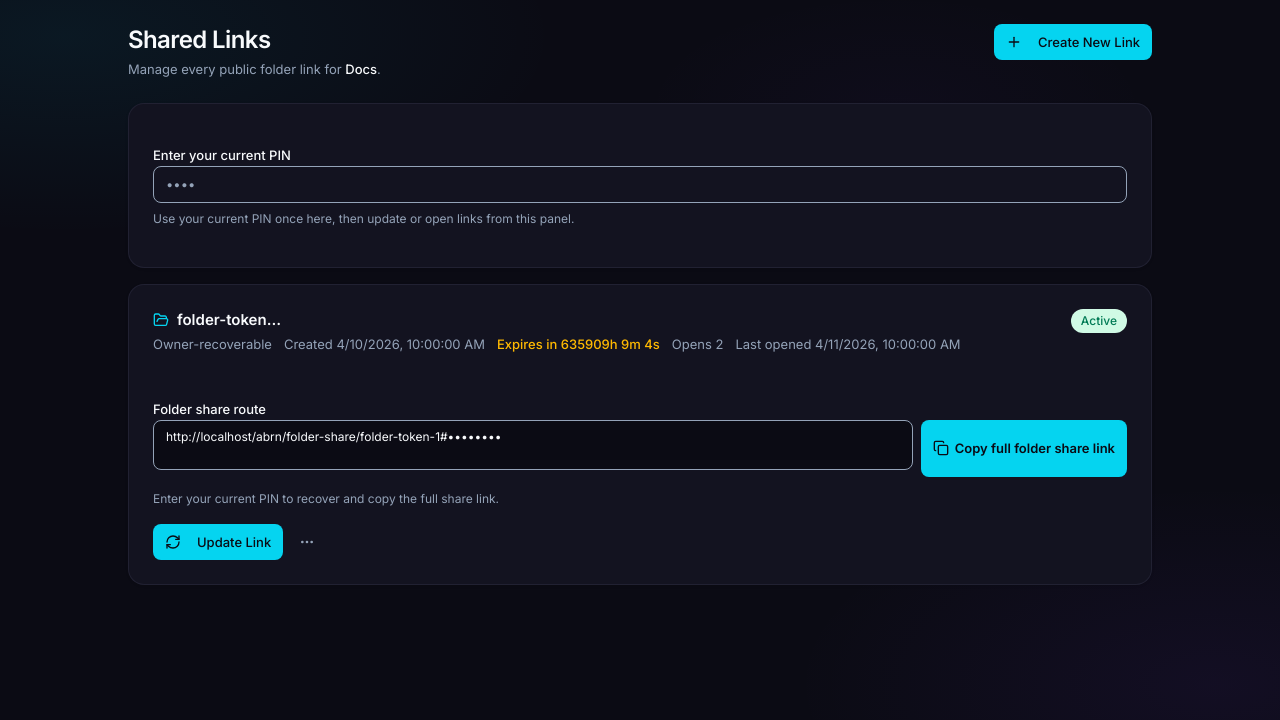
it: FolderSharedLinksSection › keeps the PIN prompt actionable after an empty WebCrypto failure and never copies
Check: the text box showing "#••••••••" is shown, box [153,420,913,470]
Click the button "Copy full folder share link": point(1024, 448) [921,420,1127,477]
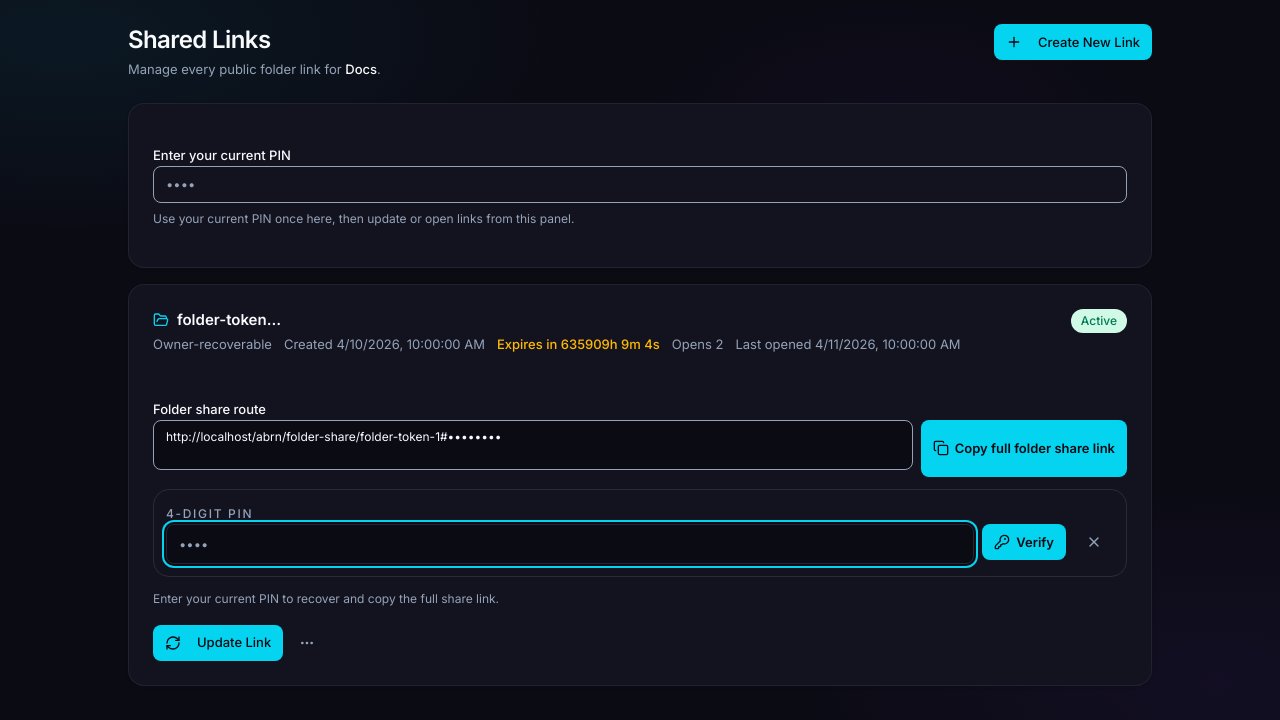
In the password field labelled "4-digit PIN": point(570, 544) [166,524,974,564], type "0000"
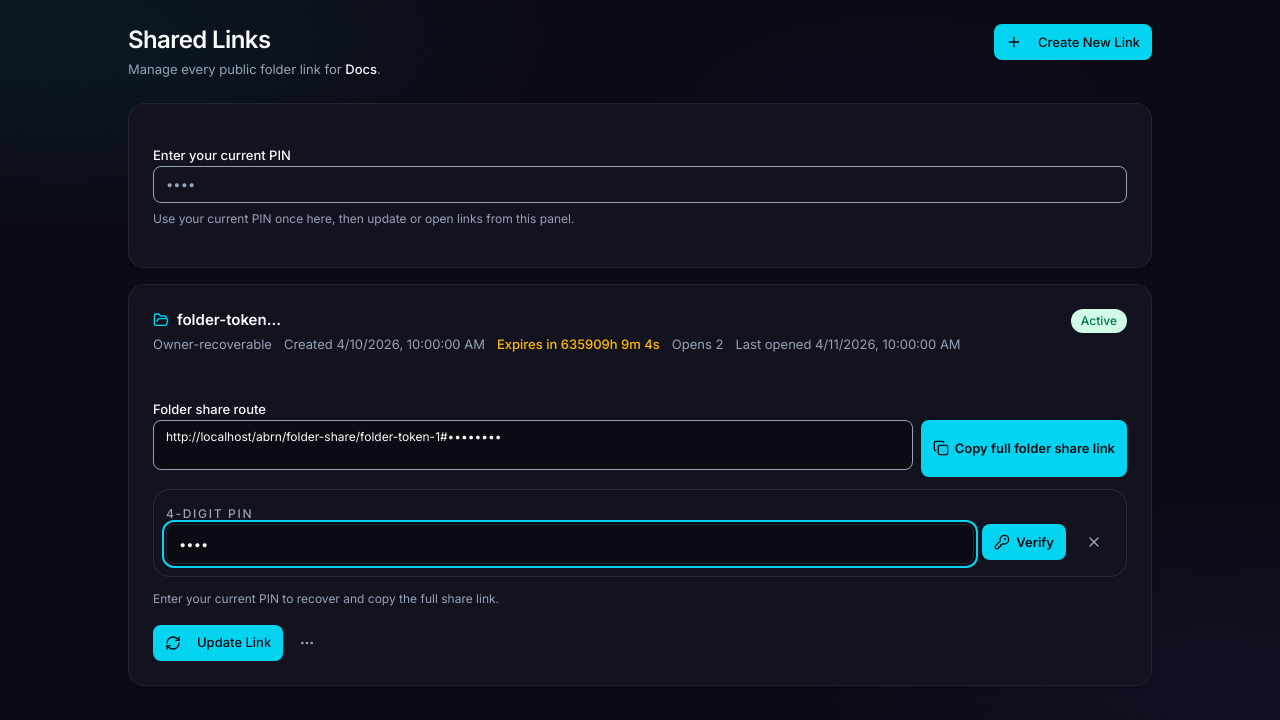
Click the button "Verify": point(1024, 542) [982,524,1066,560]
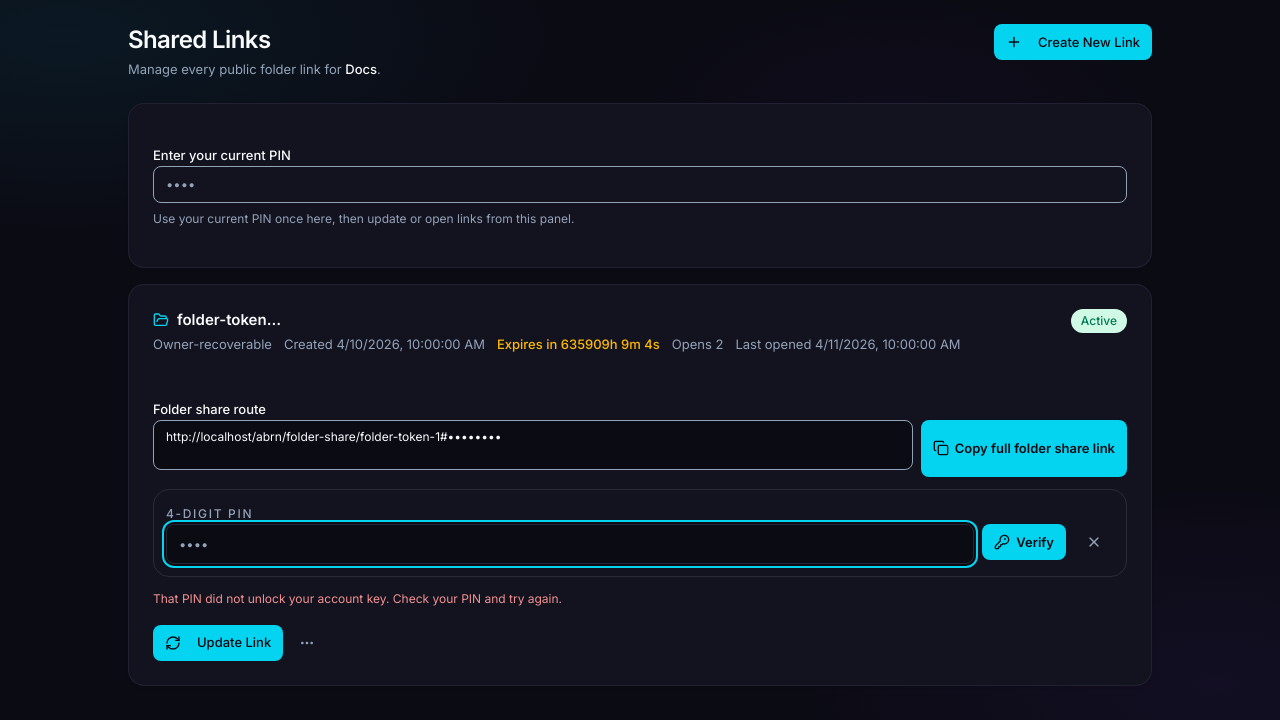
Check: the password field labelled "4-digit PIN" is shown, box [166,524,974,564]
Check: the text "That PIN did not unlock your account key" is shown, box [153,591,562,606]
